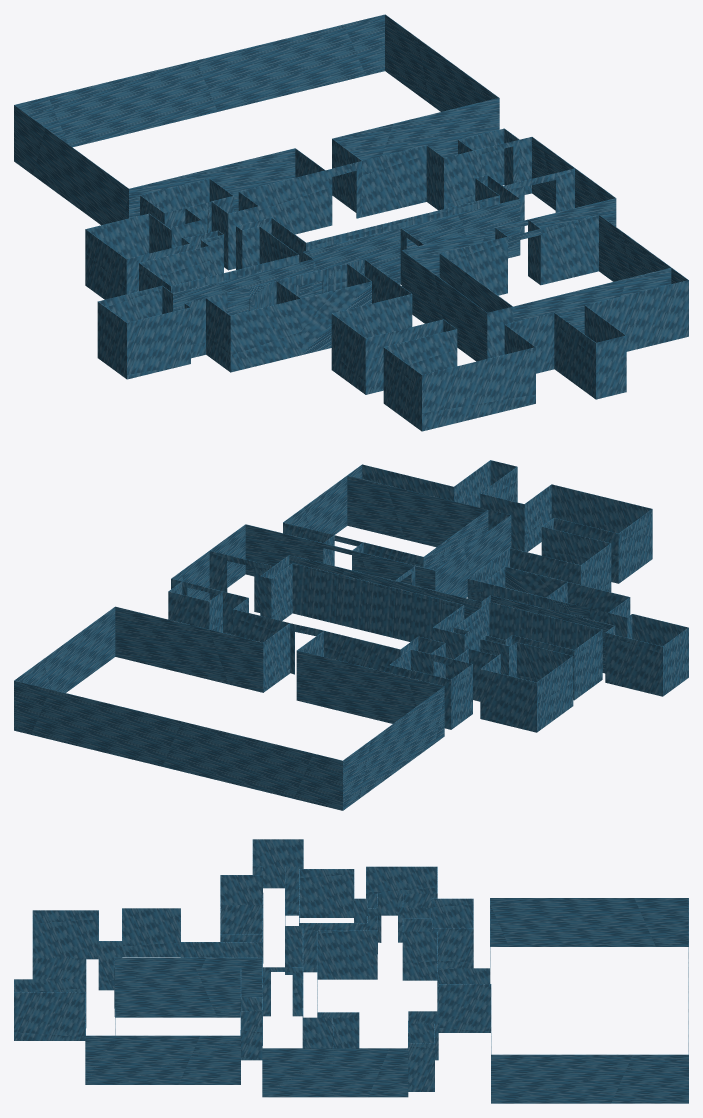
Rendered from 1esc 1.fbx.
The picture shows the model from 3 angles, top to bottom: view 1: azimuth 30°, elevation 25°; view 2: azimuth 150°, elevation 25°; view 3: azimuth 270°, elevation 25°; orthographic projection. The views are drawn at different scales.
Parts seen in each view (by area): view 1: Plano; view 2: Plano; view 3: Plano.
Part boxes in pixels (box(x1,y1,x2,y2)): Plano: box(14, 14, 688, 431); Plano: box(14, 460, 688, 810); Plano: box(14, 839, 688, 1103).
Size of the model in its own units: 21536 by 2289 by 28489.
